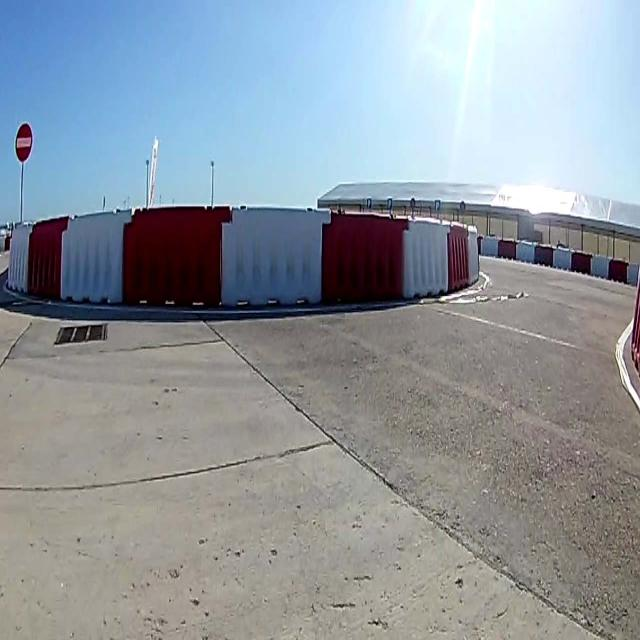girisyok: (15, 123, 33, 161)
